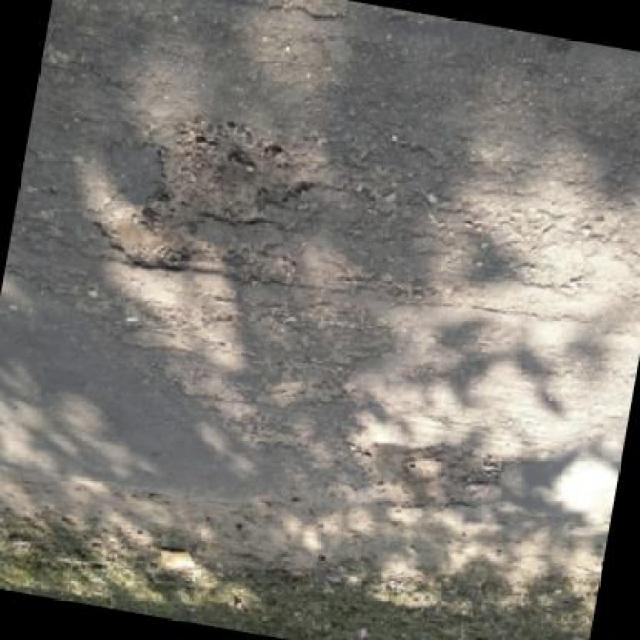pothole1: (141, 107, 321, 241), (334, 424, 514, 528), (87, 198, 204, 282)
